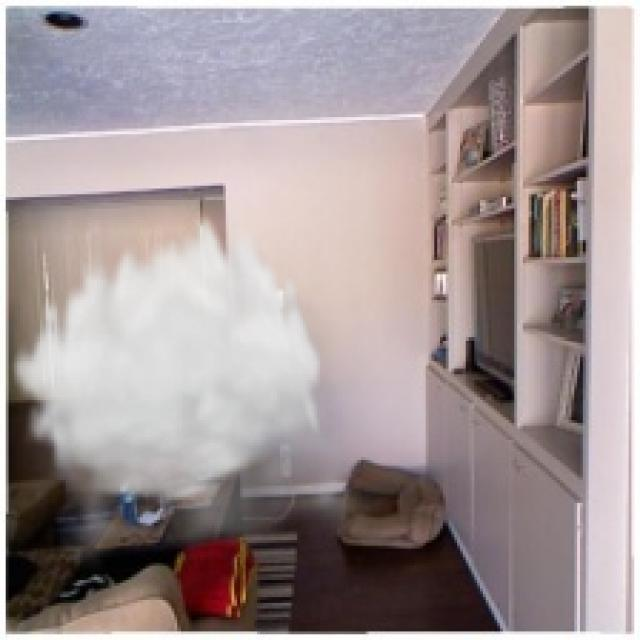Smoke: (9, 206, 392, 574)
